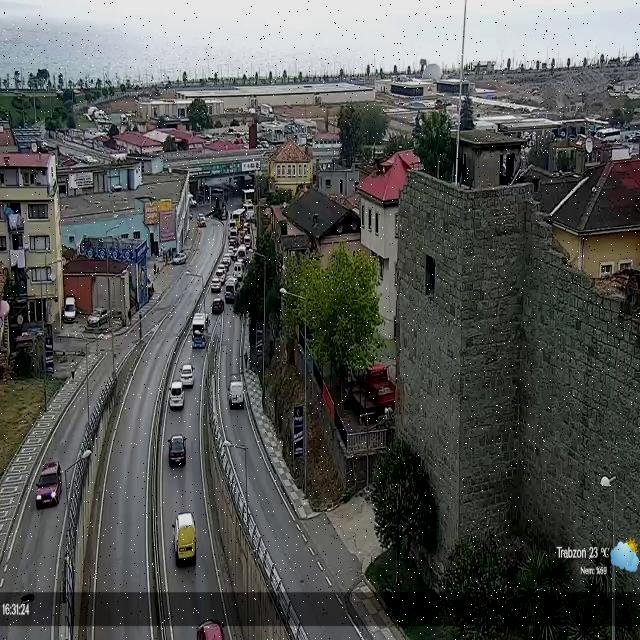Bus: (190, 313, 207, 349)
Car: (35, 461, 62, 508), (167, 432, 188, 468), (195, 619, 226, 640), (86, 307, 108, 327), (180, 365, 195, 388), (212, 297, 224, 314), (172, 252, 187, 265), (211, 276, 222, 292), (215, 266, 226, 280)
Van: (173, 512, 198, 567), (228, 377, 246, 409), (168, 380, 185, 410), (63, 296, 76, 322), (232, 261, 244, 279)
